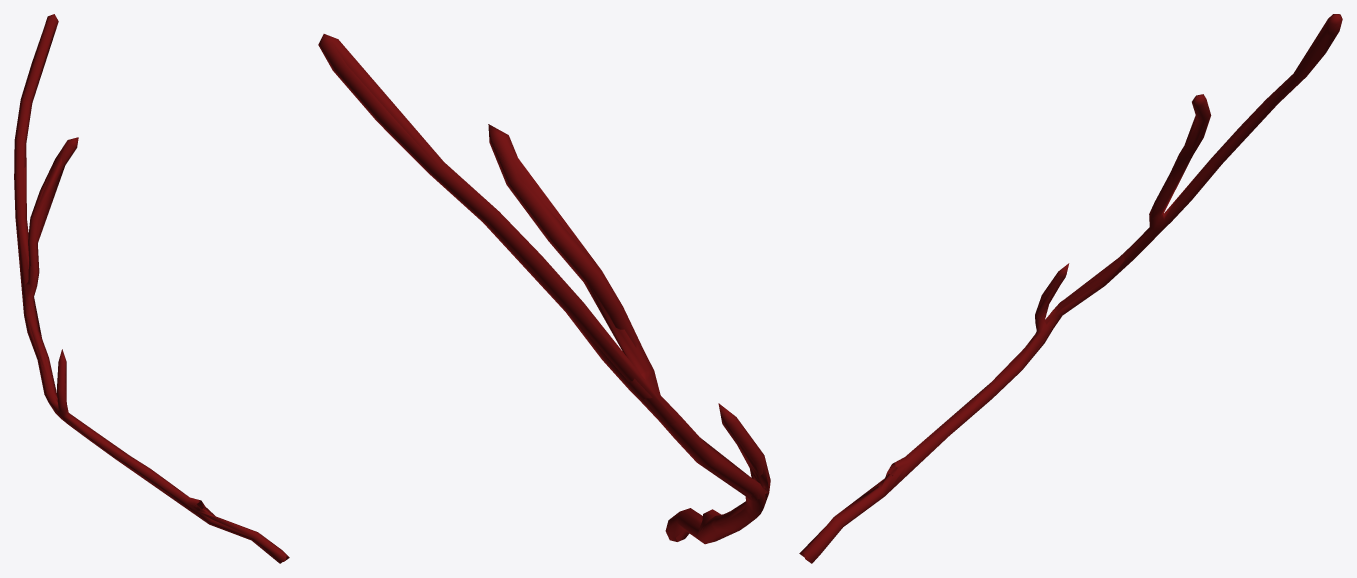
Rendered from R arteria subscapularis.fbx.
The picture shows the model from 3 angles, left to right: view 1: azimuth 30°, elevation 25°; view 2: azimuth 150°, elevation 25°; view 3: azimuth 270°, elevation 25°; orthographic projection. The views are drawn at different scales.
Parts seen in each view (by area): view 1: R arteria subscapularis, R arteria subscapularis low; view 2: R arteria subscapularis, R arteria subscapularis low; view 3: R arteria subscapularis, R arteria subscapularis low.
Boxes of the visible parts, left/top/right/bottom form: R arteria subscapularis: left=14, top=14, right=289, bottom=561; R arteria subscapularis low: left=15, top=16, right=289, bottom=563; R arteria subscapularis: left=318, top=34, right=770, bottom=543; R arteria subscapularis low: left=332, top=39, right=769, bottom=544; R arteria subscapularis: left=799, top=14, right=1342, bottom=563; R arteria subscapularis low: left=800, top=19, right=1337, bottom=552.
Size of the model in its own units: 6.73 by 18.06 by 16.75.
